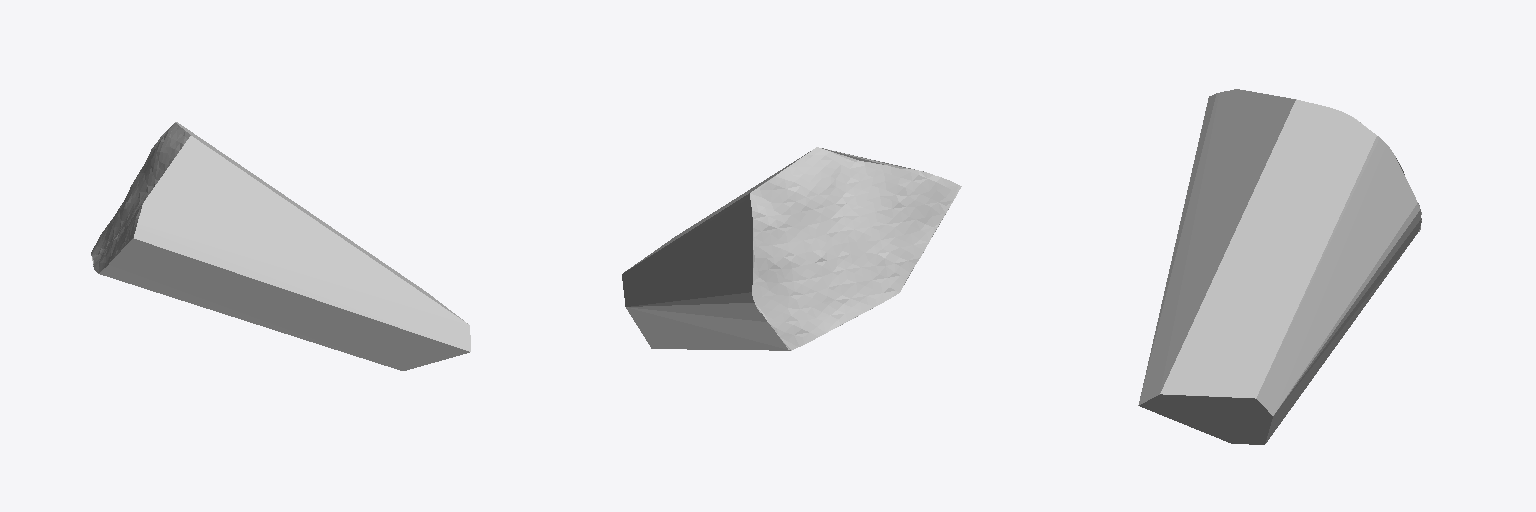
Rendered from low_cell_060.obj.
3 renders of one model, left to right at view 1: azimuth 30°, elevation 25°; view 2: azimuth 150°, elevation 25°; view 3: azimuth 270°, elevation 25°, orthographic.
Visible parts, largest first — view 1: low_cell.060_low_cell.059; view 2: low_cell.060_low_cell.059; view 3: low_cell.060_low_cell.059.
Boxes of the visible parts, x1,y1,x2,y2 form: low_cell.060_low_cell.059: [91, 122, 470, 370]; low_cell.060_low_cell.059: [622, 147, 961, 350]; low_cell.060_low_cell.059: [1138, 89, 1421, 444].
Size of the model in its own units: 0.6177 by 0.4808 by 0.4793.